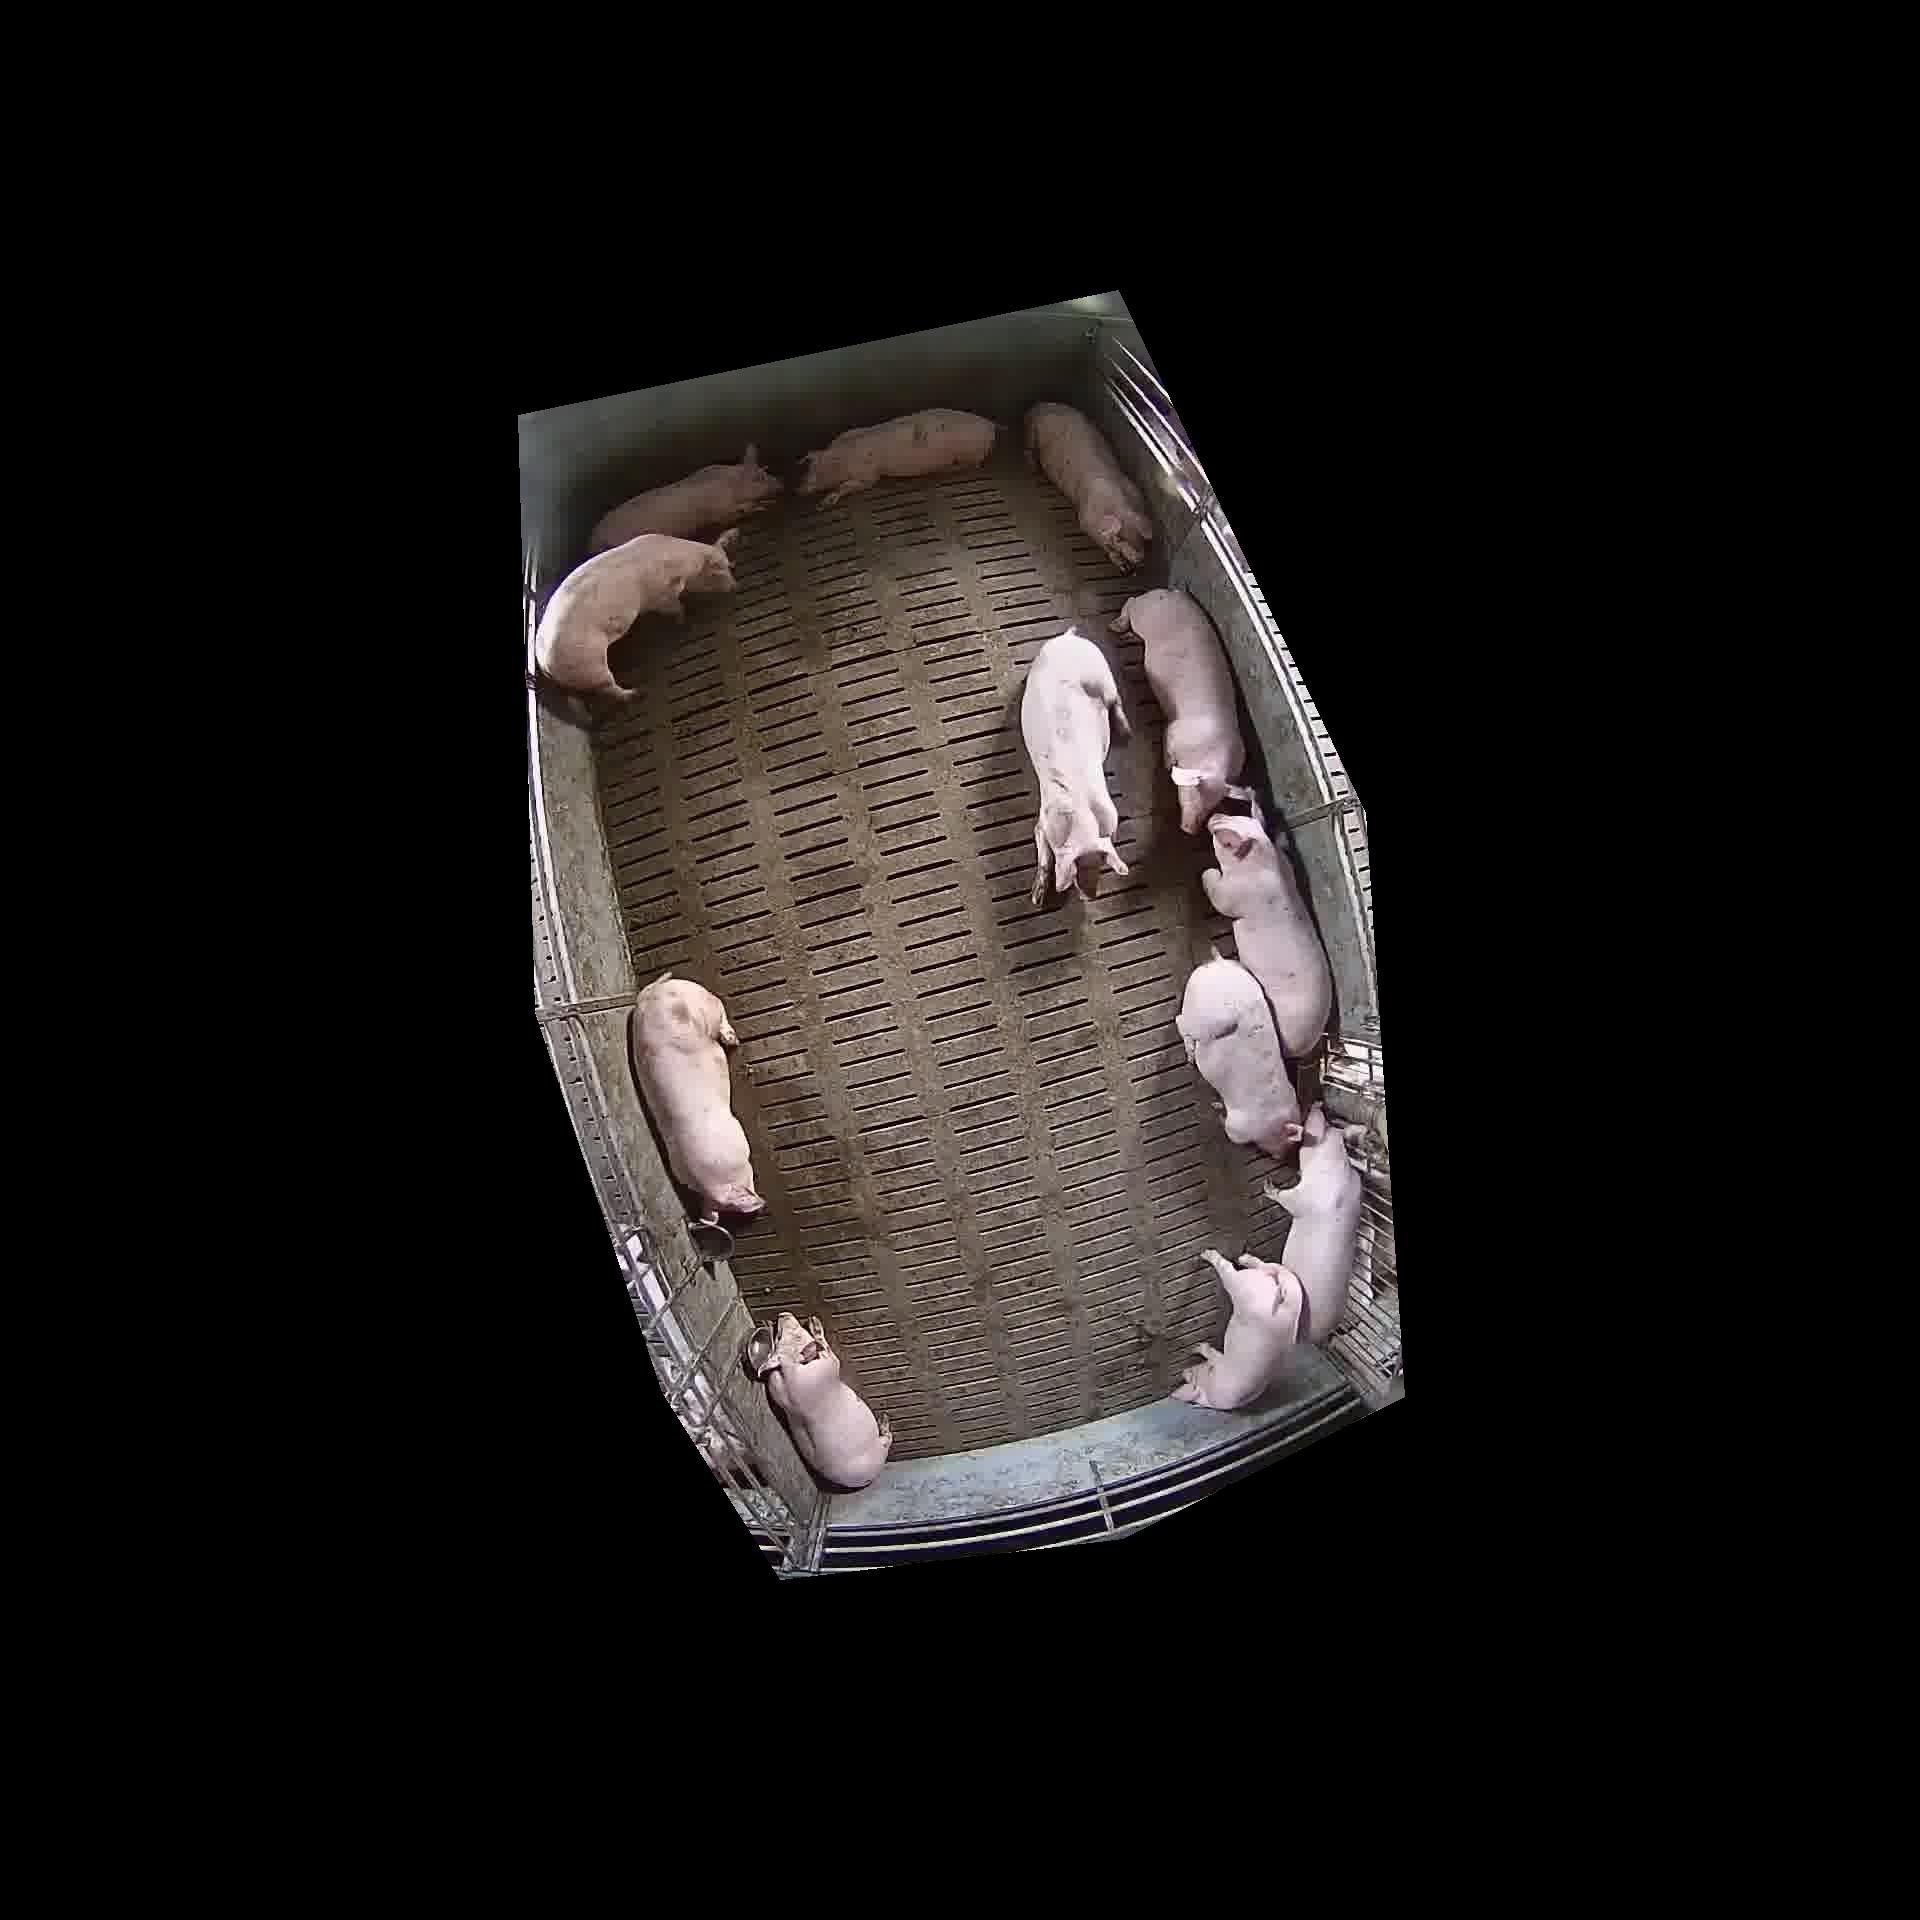pig: (535, 529, 733, 700), (631, 976, 765, 1218), (1115, 589, 1245, 833), (1203, 816, 1331, 1057), (1022, 629, 1129, 904), (1176, 956, 1299, 1157), (758, 1313, 891, 1487), (1025, 403, 1152, 570), (591, 445, 782, 554), (1273, 1104, 1361, 1342), (1173, 1250, 1303, 1410), (798, 408, 995, 503)
